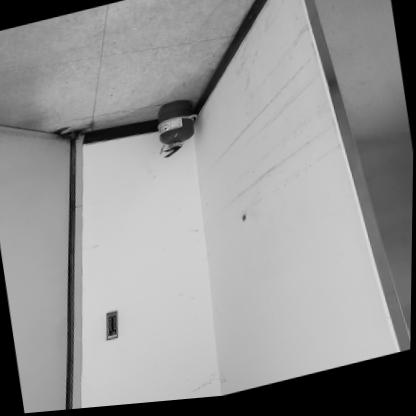FE: (154, 99, 199, 163)
